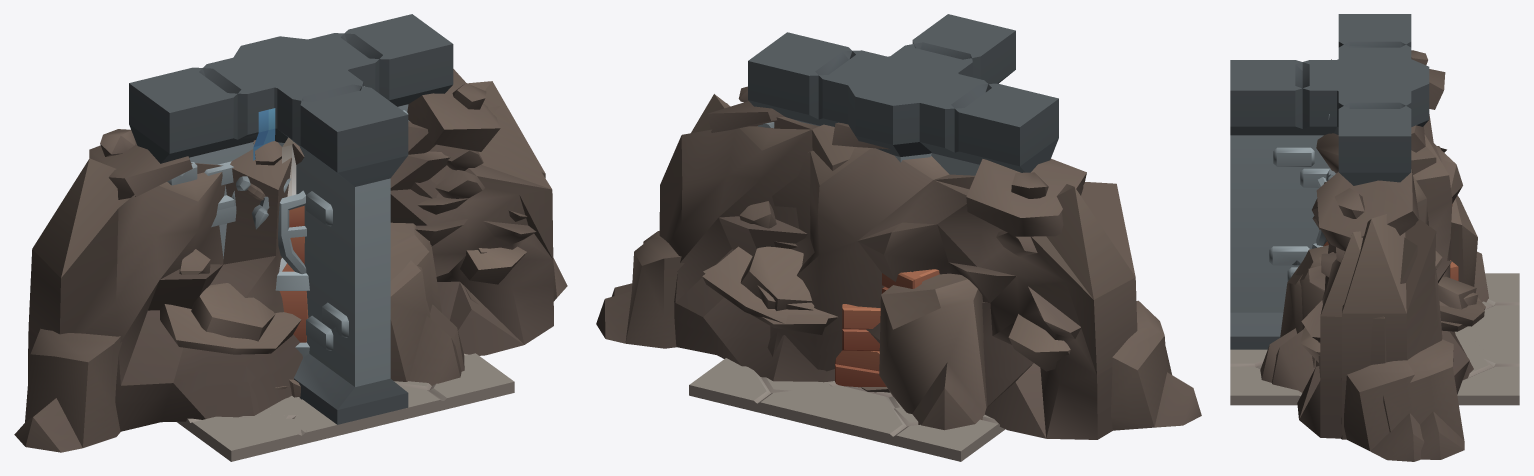
File: dungeon-kit.glb
3 views of the same model, side by side, from view 1: azimuth 30°, elevation 25°; view 2: azimuth 150°, elevation 25°; view 3: azimuth 270°, elevation 25° (orthographic). The views are drawn at different scales.
Visible parts, largest first — view 1: rubble_large, wall_corner, wall_arched, rubble_half, floor_tile_large_rocks, floor_tile_large, pillar_decorated, wall, barrel_large, pillar, banner_patternA_blue; view 2: rubble_large, rubble_half, wall_arched, wall, floor_tile_large_rocks, wall_corner, floor_tile_large, pillar, crates_stacked; view 3: rubble_half, wall_corner, rubble_large, wall_arched, floor_tile_large_rocks, wall, floor_tile_large, pillar, pillar_decorated.
Part boxes in pixels (x1,y1,x2,y2): rubble_large: (14,106,567,452); wall_corner: (173,70,408,424); wall_arched: (129,14,453,185); rubble_half: (390,69,545,371); floor_tile_large_rocks: (179,353,513,450); floor_tile_large: (176,381,514,461); pillar_decorated: (235,44,306,274); wall: (145,41,382,258); barrel_large: (275,263,309,357); pillar: (233,36,348,146); banner_patternA_blue: (253,86,364,160); rubble_large: (611,103,1201,439); rubble_half: (596,86,854,382); wall_arched: (748,32,1058,172); wall: (748,51,1025,172); floor_tile_large_rocks: (689,358,1003,461); wall_corner: (890,14,1023,175); floor_tile_large: (689,381,1005,461); pillar: (848,55,958,158); crates_stacked: (835,269,939,387); rubble_half: (1272,147,1484,459); wall_corner: (1230,41,1400,349); rubble_large: (1260,50,1488,461); wall_arched: (1338,14,1411,185); floor_tile_large_rocks: (1230,273,1519,401); wall: (1338,93,1411,185); floor_tile_large: (1230,305,1519,405); pillar: (1321,59,1429,134); pillar_decorated: (1316,60,1429,245).
Size of the model in its own units: 8.13 by 4.38 by 4.
Materials: 1 (1 with a texture image).
